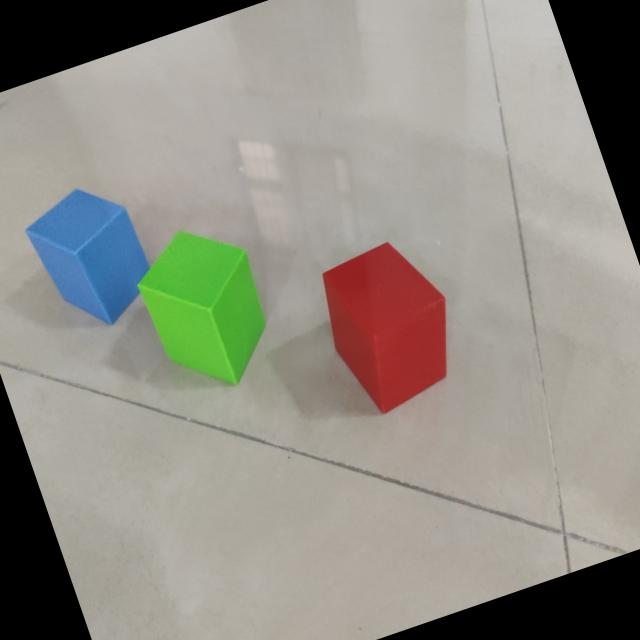blue: (26, 190, 151, 325)
green: (137, 231, 267, 387)
red: (322, 242, 448, 415)
